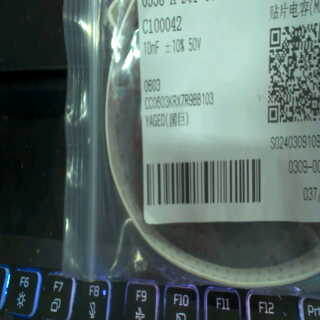10nF: (141, 37, 161, 57)
